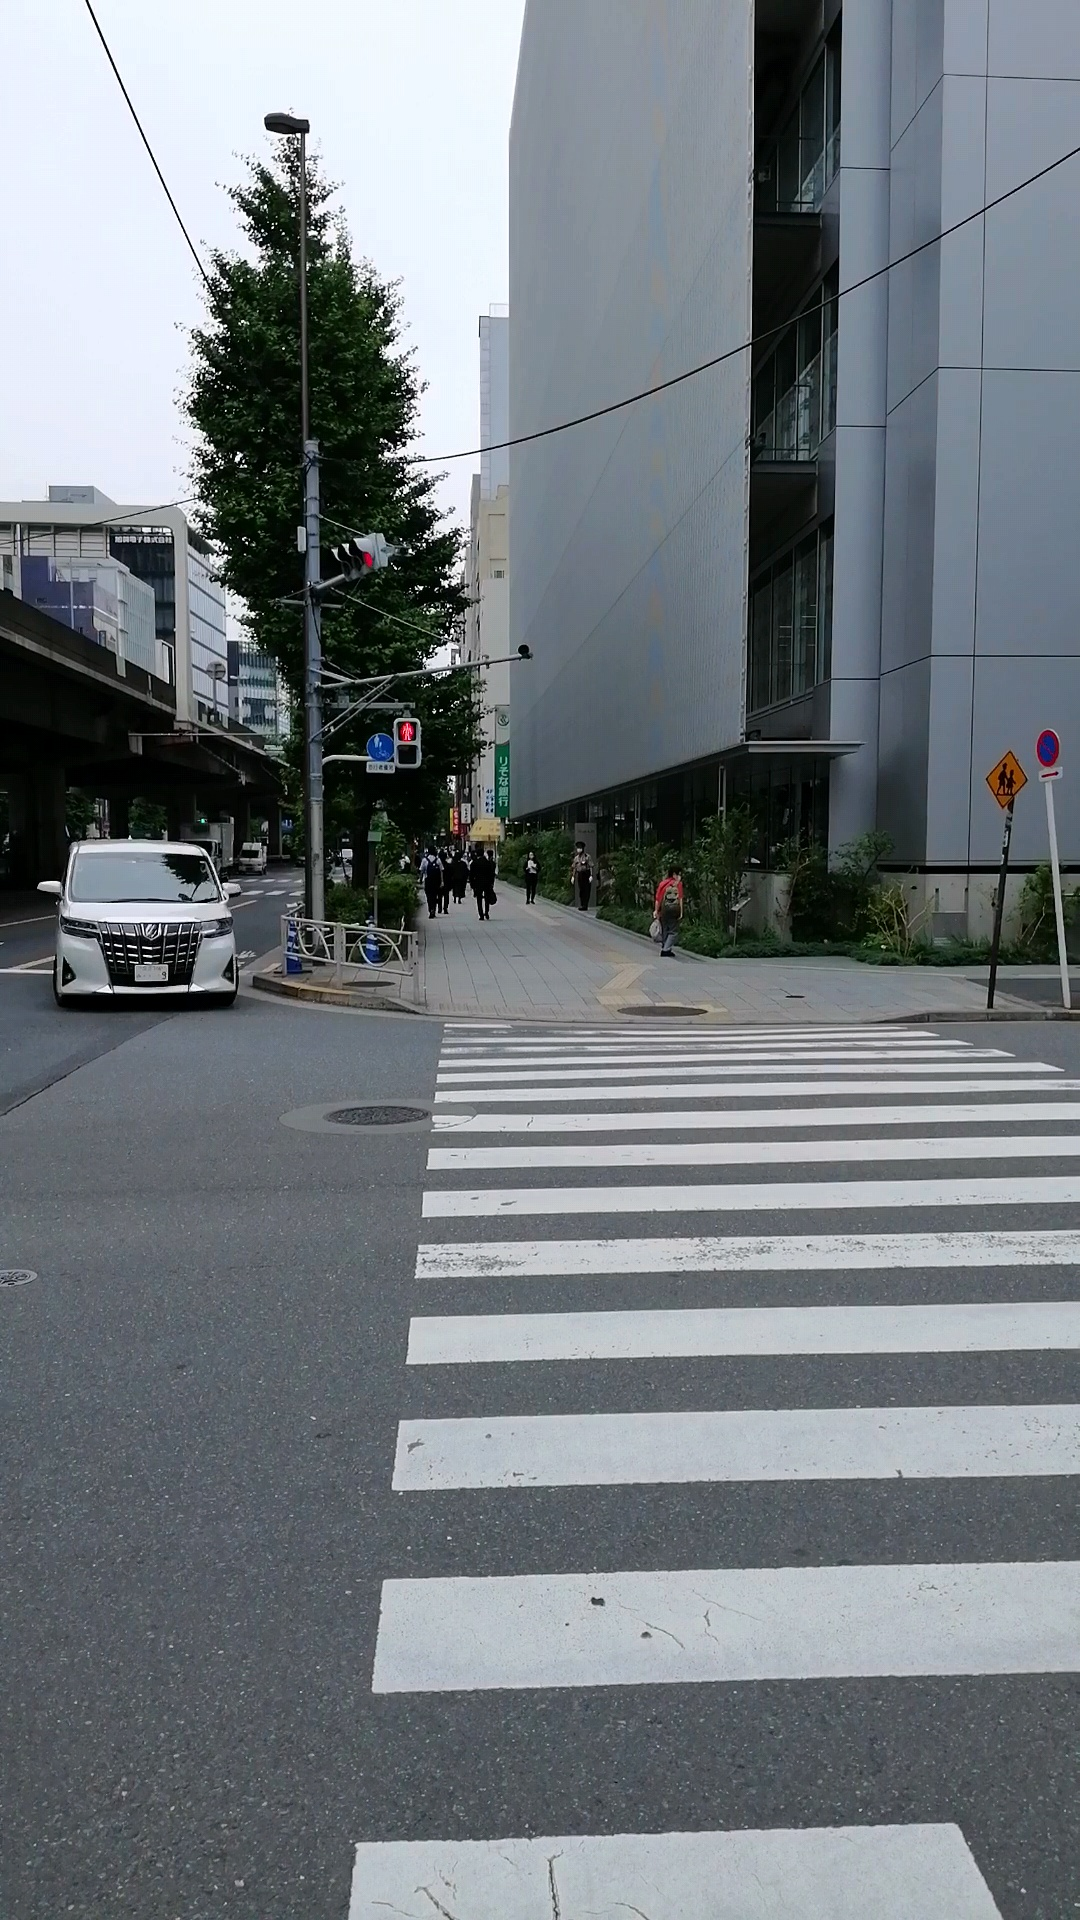red: (393, 717, 421, 767)
